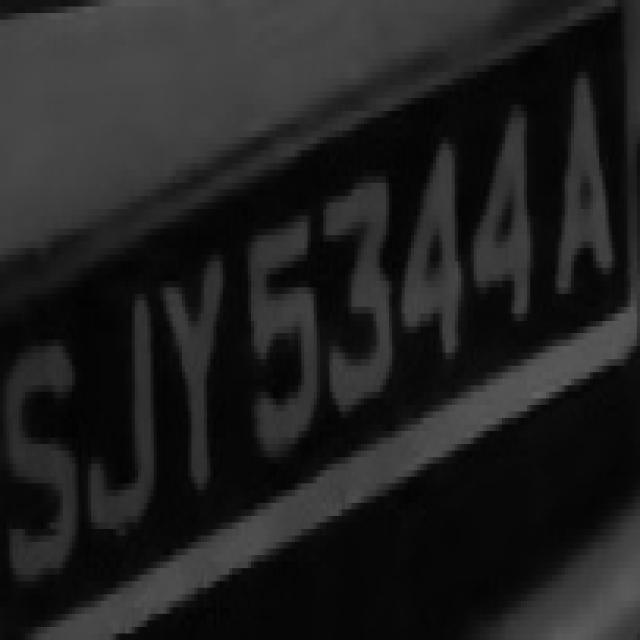3: (323, 170, 399, 424)
4: (458, 78, 549, 340), (382, 130, 470, 378)
5: (239, 202, 323, 470)
A: (536, 52, 624, 294)
J: (78, 274, 170, 555)
S: (3, 320, 85, 620)
Y: (154, 242, 238, 509)
